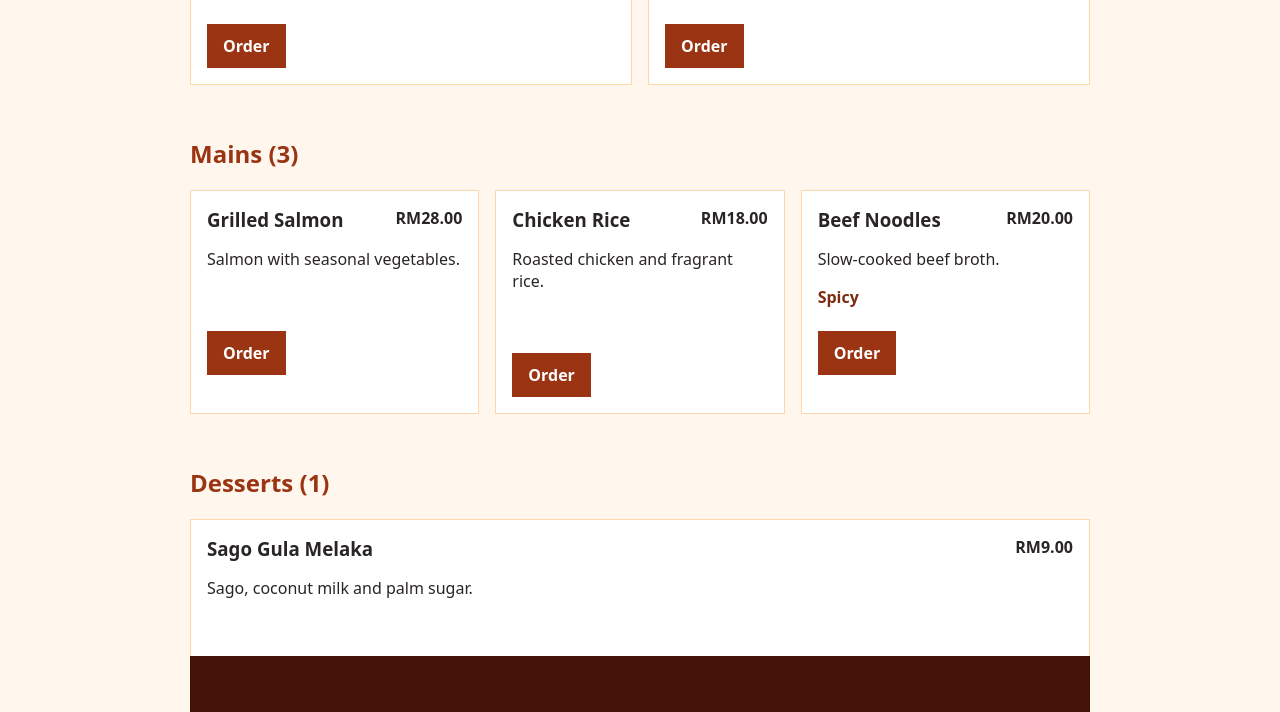
Test: renders three categories with 2/3/1 items and accessible order feedback
(page scrolled)
Click the button with aria-label "Order Grilled Salmon" at x=246, y=353, box left=207, top=331, right=286, bottom=375
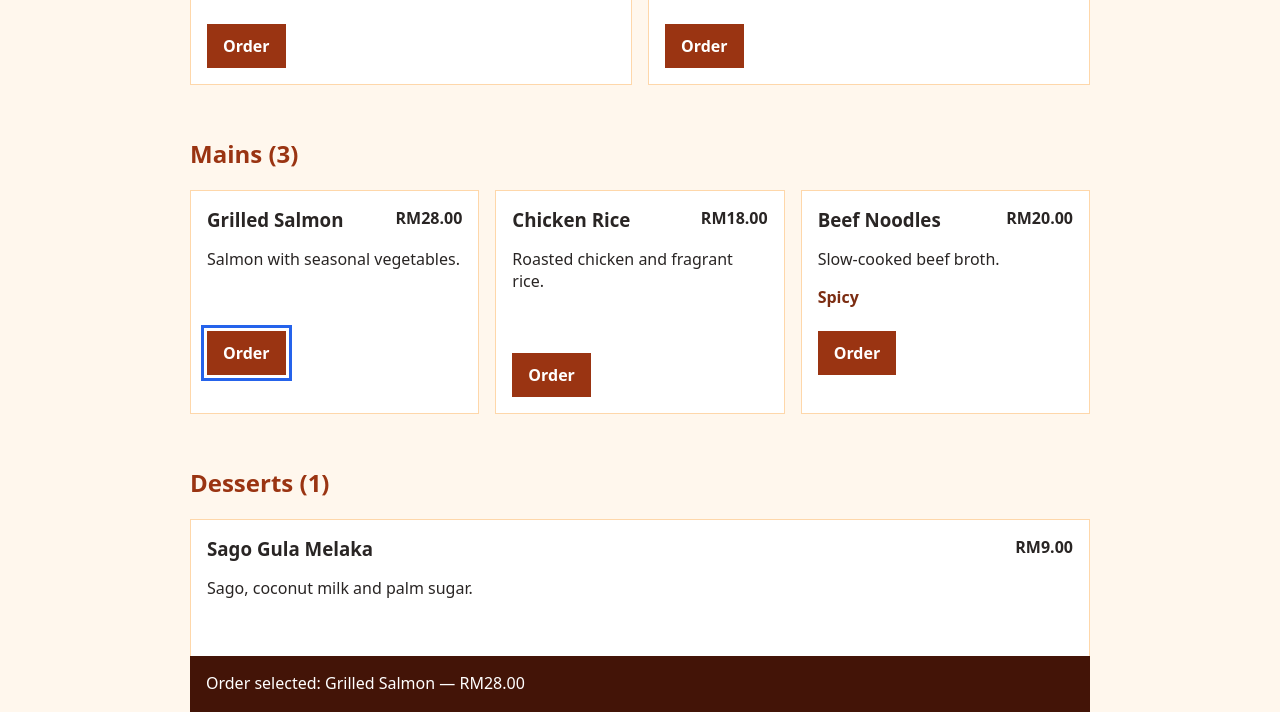
Check: the message shows "Grilled Salmon — RM28.00", box left=206, top=672, right=525, bottom=694
